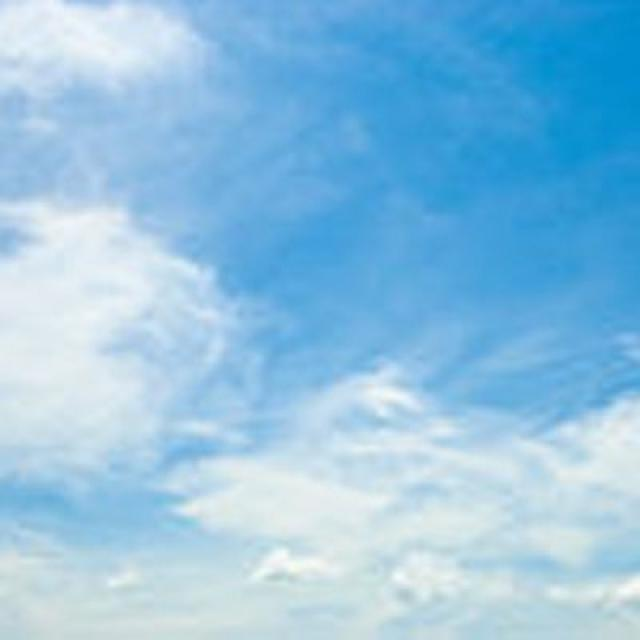As: (2, 198, 640, 640)
